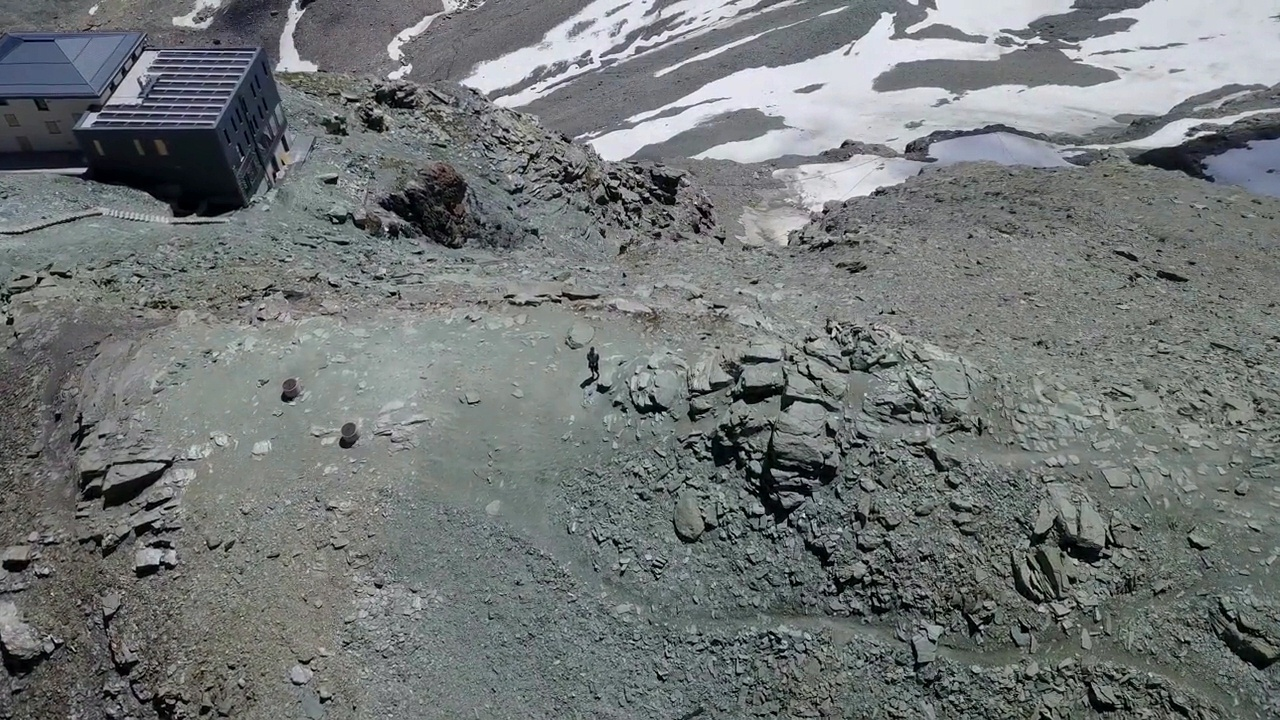insan: (583, 346, 603, 380)
